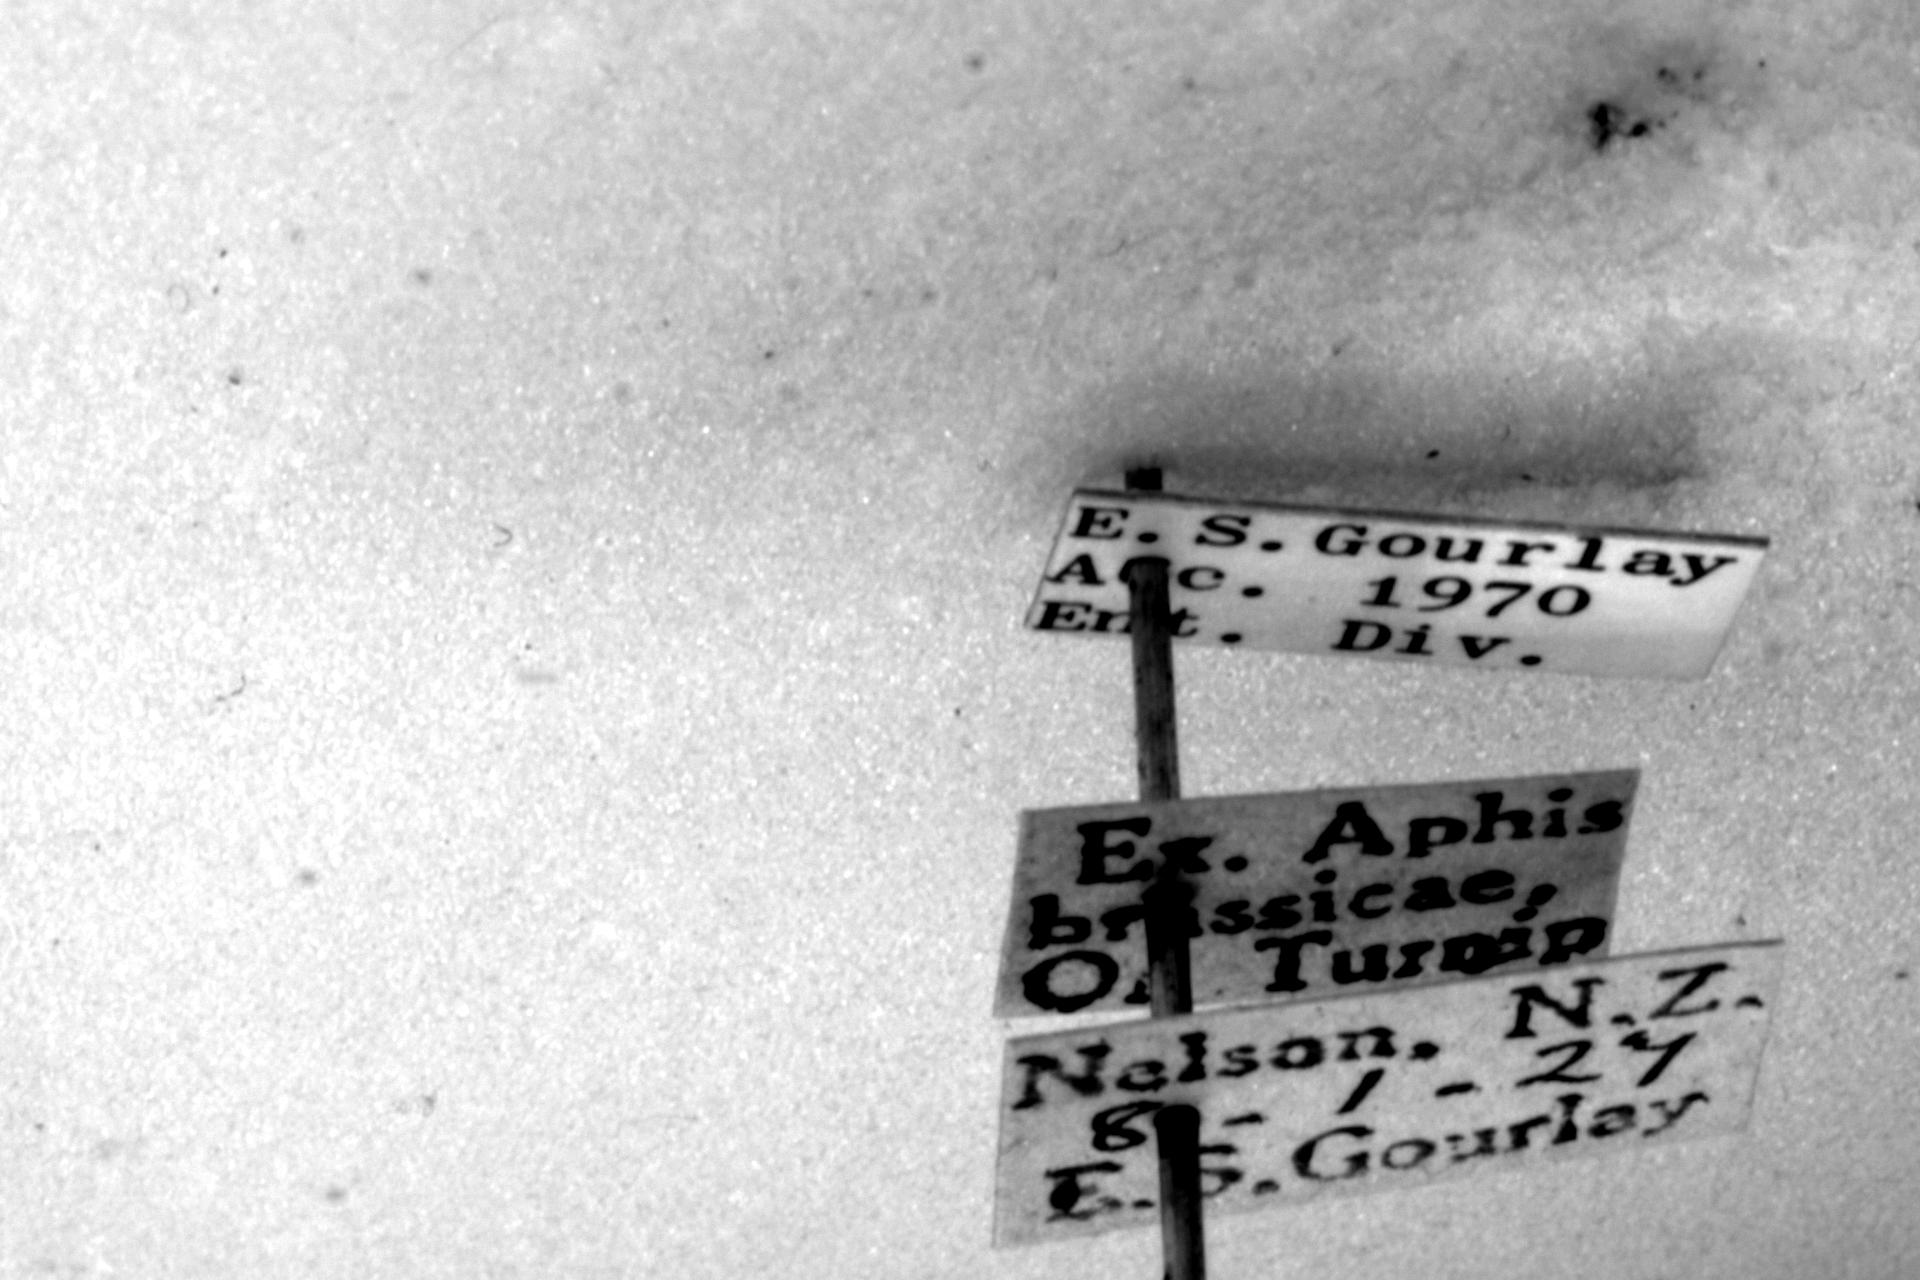mixed_label: (990, 941, 1777, 1249)
typed_label: (994, 769, 1639, 1016), (1027, 487, 1766, 679)
